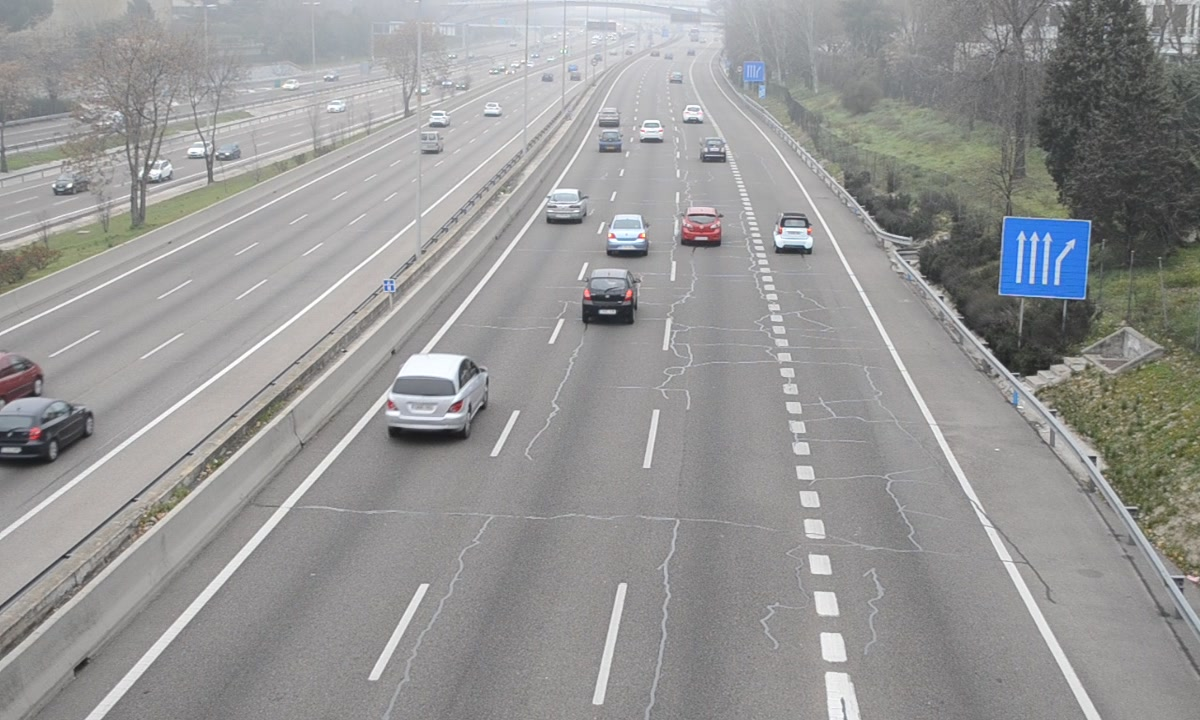car: (387, 354, 489, 434), (582, 266, 638, 329), (606, 213, 650, 258), (774, 212, 815, 254), (681, 205, 723, 246), (544, 186, 589, 224), (700, 137, 727, 164), (639, 117, 666, 143), (597, 130, 623, 154), (597, 106, 621, 128)
